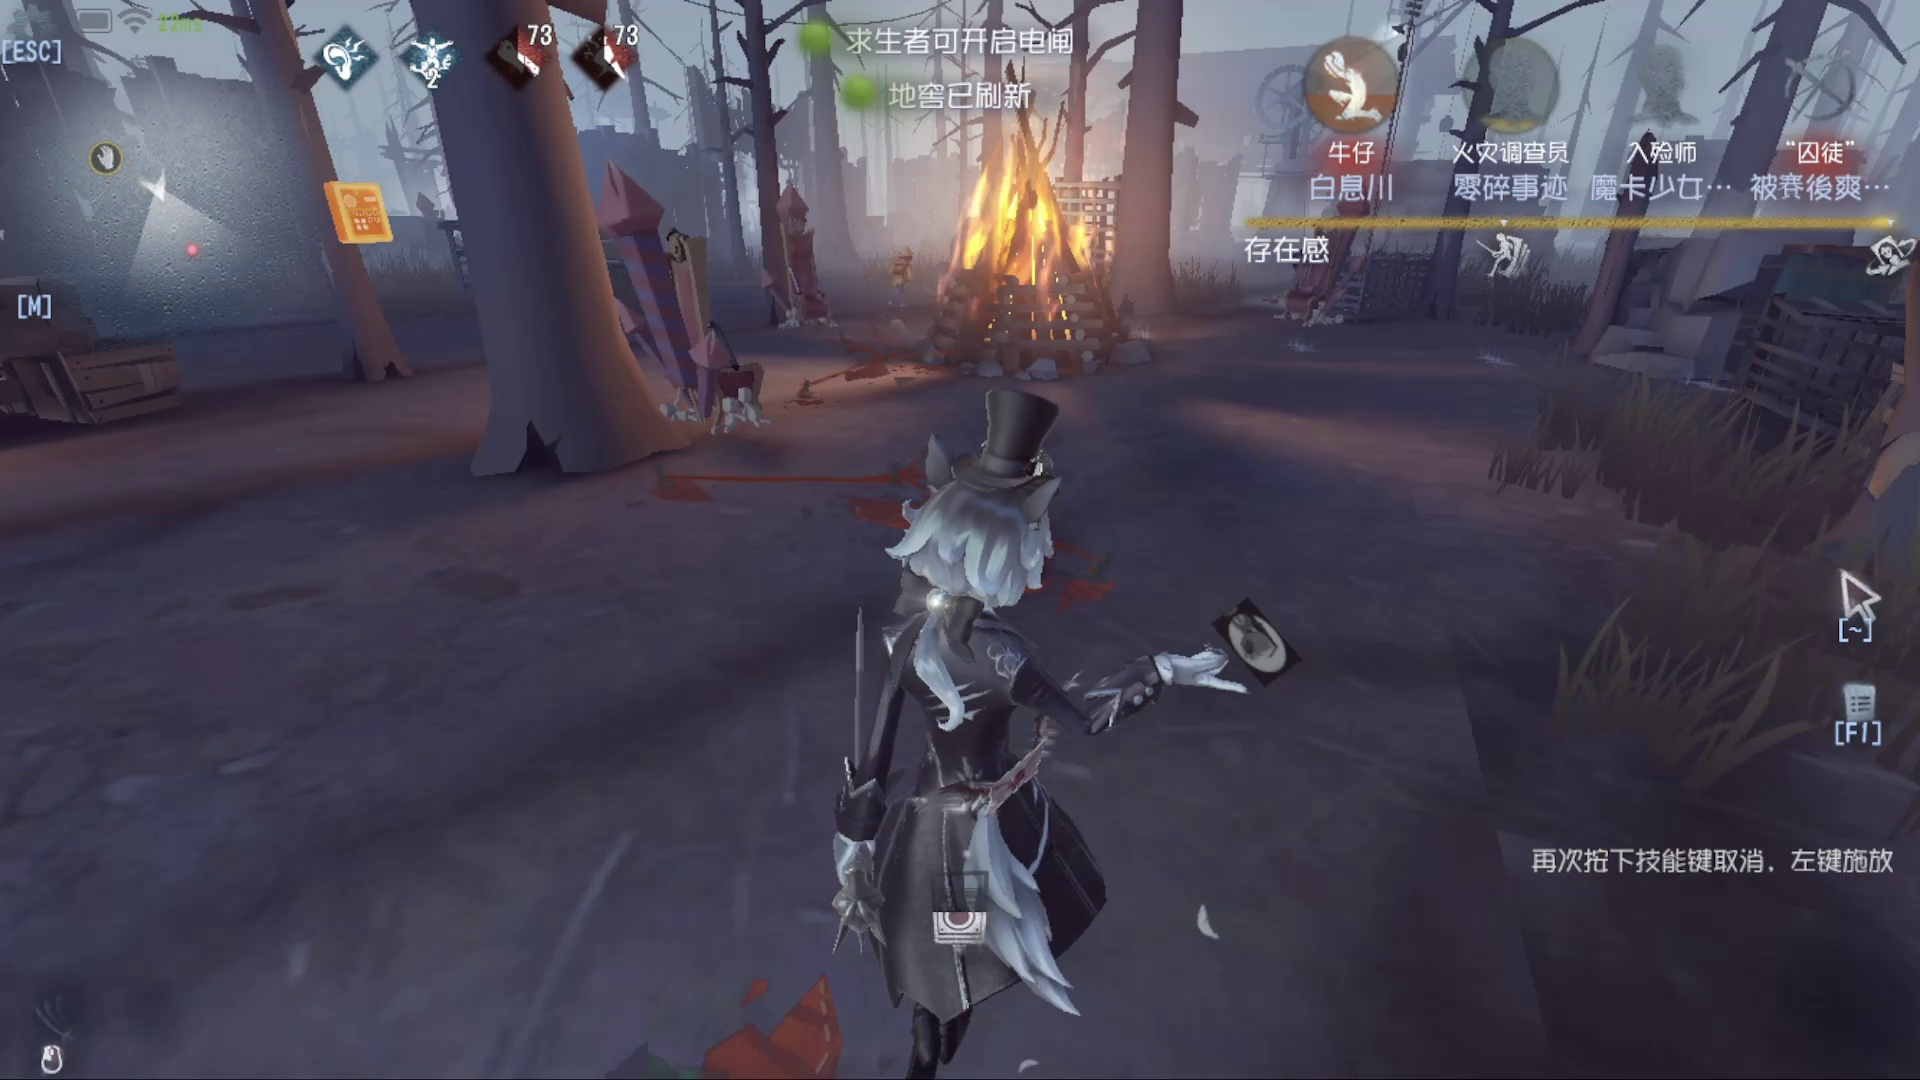求生者: (882, 239, 924, 305)
狂欢之椅: (571, 146, 764, 444), (752, 182, 855, 351), (1263, 165, 1362, 339)
